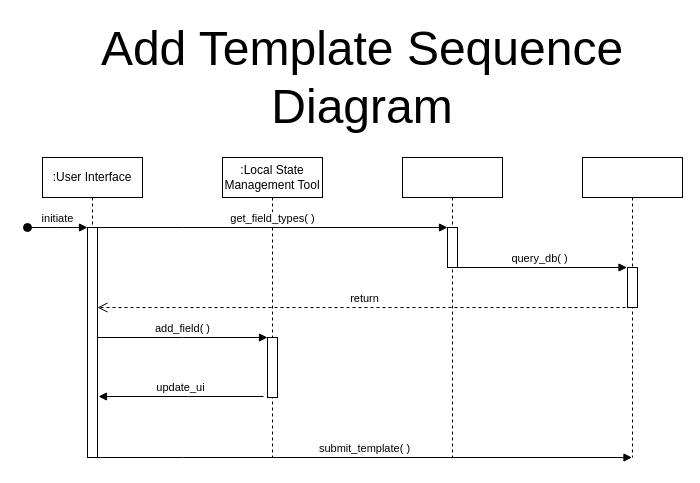
Some shapes in this 700 by 483 pixel diagram are drawn without their labels. Here are the shapes that lost their labels. From the top down, the box of each, then its label:
(402, 156, 502, 458): :Server
(582, 156, 682, 458): :Database
